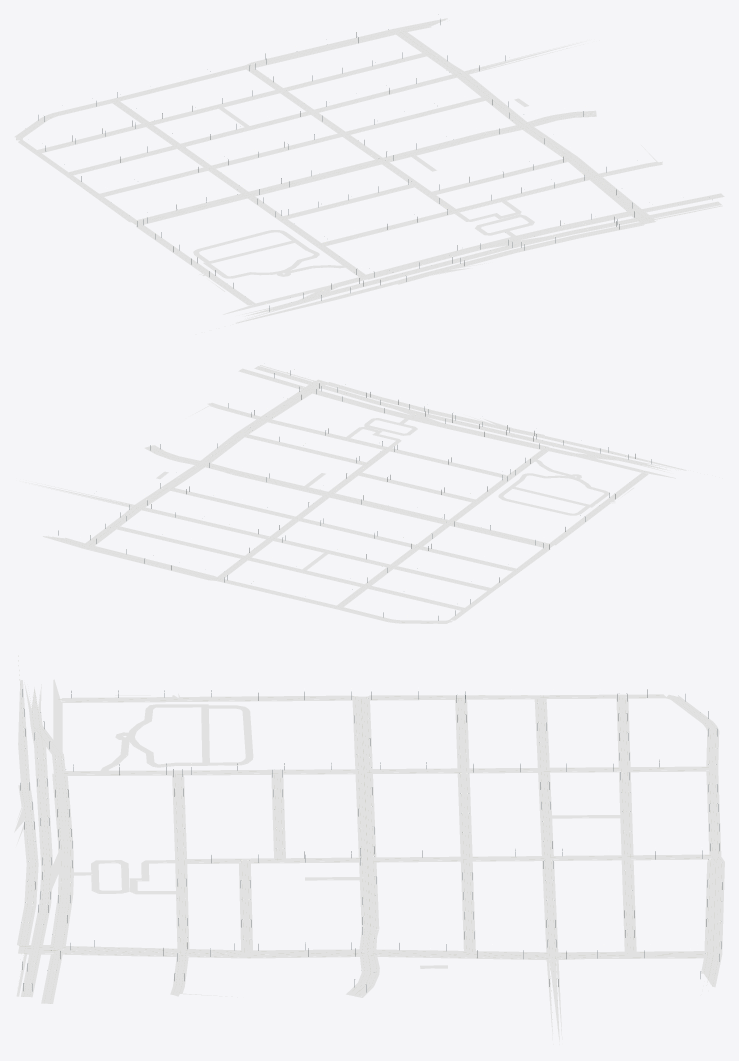
Rendered from roads--9_2-fine.glb.
The picture shows the model from 3 angles, top to bottom: view 1: azimuth 30°, elevation 25°; view 2: azimuth 150°, elevation 25°; view 3: azimuth 270°, elevation 25°; orthographic projection. The views are drawn at different scales.
Visible parts, largest first — view 1: roads_-9_2_asphalt, roads_-9_2_pavement, roads_-9_2_steel; view 2: roads_-9_2_asphalt, roads_-9_2_pavement, roads_-9_2_steel; view 3: roads_-9_2_asphalt, roads_-9_2_pavement, roads_-9_2_roadline, roads_-9_2_steel.
Part boxes in pixels (x1,y1,x2,y2): roads_-9_2_asphalt: (16, 19, 723, 322); roads_-9_2_pavement: (14, 18, 724, 323); roads_-9_2_steel: (38, 19, 634, 311); roads_-9_2_asphalt: (20, 366, 679, 623); roads_-9_2_pavement: (26, 365, 686, 623); roads_-9_2_steel: (58, 370, 651, 620); roads_-9_2_asphalt: (14, 680, 722, 1044); roads_-9_2_pavement: (16, 679, 724, 1044); roads_-9_2_roadline: (18, 655, 721, 1026); roads_-9_2_steel: (20, 689, 722, 992).
Size of the model in its own units: 841 by 8.29 by 640.
